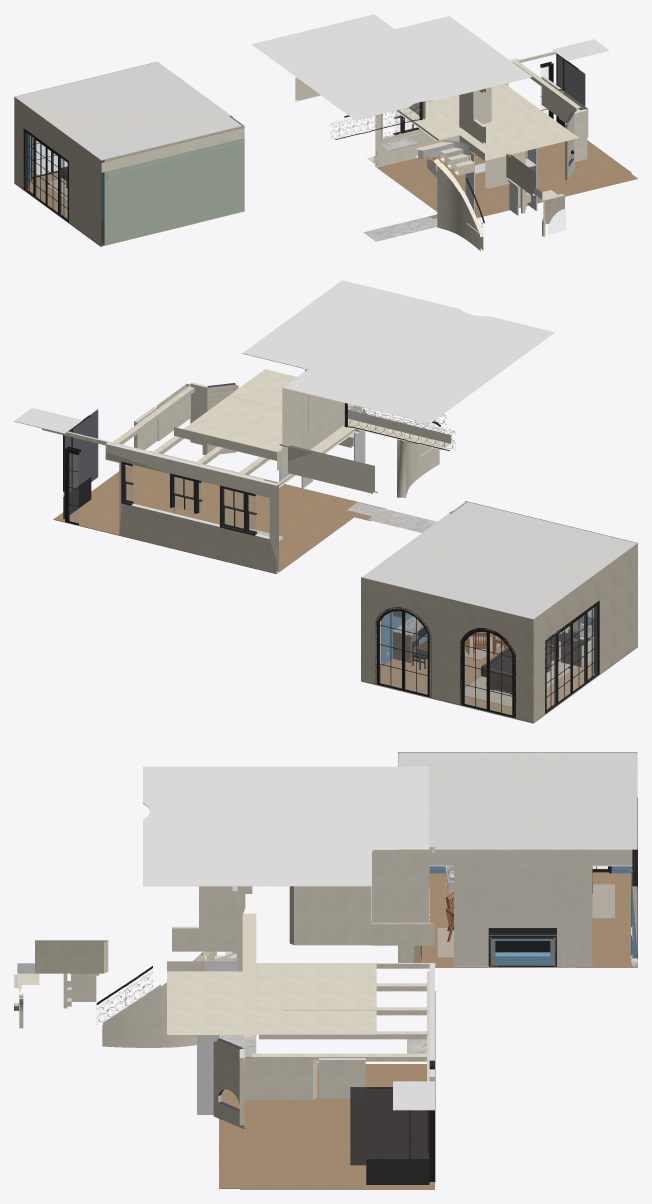
File: game-room-e32512383e2a.glb
The picture shows the model from 3 angles, top to bottom: view 1: azimuth 30°, elevation 25°; view 2: azimuth 150°, elevation 25°; view 3: azimuth 270°, elevation 25°; orthographic projection. The views are drawn at different scales.
Visible parts, largest first — view 1: game-room-look-9d91b47435c6fb33, game-room-4a969f5cc1ae3dfe, game-room-30c5953c9ad73e5d, game-room-look-3b0077416469e01b, game-room-look-2575515a05775d9e, game-room-039192b0560cfac3, game-room-50d54560d247b537, game-room-9fbf623a647a21dd, game-room-look-8c6a7019fd0063e7, game-room-2575515a05775d9e, game-room-look-bfb9fa537cd11d1d, game-room-3b0077416469e01b (+18 smaller); view 2: game-room-look-9d91b47435c6fb33, game-room-4a969f5cc1ae3dfe, game-room-look-3b0077416469e01b, game-room-969b861f9850351e, game-room-look-bfb9fa537cd11d1d, game-room-039192b0560cfac3, game-room-look-2575515a05775d9e, game-room-50d54560d247b537, game-room-67b6630d0fa028c8, game-room-b7bc8997c06ae95e, game-room-9fbf623a647a21dd, game-room-3b0077416469e01b (+18 smaller); view 3: game-room-look-9d91b47435c6fb33, game-room-4a969f5cc1ae3dfe, game-room-look-3b0077416469e01b, game-room-3e6709f91b43c3bf, game-room-look-2575515a05775d9e, game-room-50d54560d247b537, game-room-55ff1dfd7b659ec1, game-room-look-69af8f587252f9fa, game-room-look-cbd4bf73d9724a66, game-room-3b0077416469e01b, game-room-look-32b959c9aa406288, game-room-look-8c6a7019fd0063e7 (+21 smaller).
Part boxes in pixels (x1,y1,x2,y2): game-room-look-9d91b47435c6fb33: (251,14,531,120); game-room-4a969f5cc1ae3dfe: (14,62,242,160); game-room-30c5953c9ad73e5d: (104,126,244,245); game-room-look-3b0077416469e01b: (375,140,637,218); game-room-look-2575515a05775d9e: (367,84,578,163); game-room-039192b0560cfac3: (14,97,104,246); game-room-50d54560d247b537: (14,61,243,160); game-room-9fbf623a647a21dd: (23,128,68,222); game-room-look-8c6a7019fd0063e7: (427,157,483,250); game-room-2575515a05775d9e: (101,128,244,172); game-room-look-bfb9fa537cd11d1d: (375,58,518,167); game-room-3b0077416469e01b: (14,172,239,246); game-room-look-9d91b47435c6fb33: (242,280,554,423); game-room-4a969f5cc1ae3dfe: (361,502,637,619); game-room-look-3b0077416469e01b: (53,451,386,574); game-room-969b861f9850351e: (361,578,529,721); game-room-look-bfb9fa537cd11d1d: (105,442,278,573); game-room-039192b0560cfac3: (529,544,637,722); game-room-look-2575515a05775d9e: (174,369,451,460); game-room-50d54560d247b537: (361,502,637,619); game-room-67b6630d0fa028c8: (460,628,515,718); game-room-b7bc8997c06ae95e: (375,607,431,697); game-room-9fbf623a647a21dd: (545,600,599,713); game-room-3b0077416469e01b: (361,644,637,722); game-room-look-9d91b47435c6fb33: (143,766,429,886); game-room-4a969f5cc1ae3dfe: (398,752,637,849); game-room-look-3b0077416469e01b: (219,1056,434,1189); game-room-3e6709f91b43c3bf: (398,849,632,966); game-room-look-2575515a05775d9e: (167,913,376,1034); game-room-50d54560d247b537: (398,752,637,849); game-room-55ff1dfd7b659ec1: (398,849,631,967); game-room-look-69af8f587252f9fa: (289,886,371,945); game-room-look-cbd4bf73d9724a66: (350,1087,429,1165); game-room-3b0077416469e01b: (398,872,637,967); game-room-look-32b959c9aa406288: (372,849,429,922); game-room-look-8c6a7019fd0063e7: (102,951,216,1047).
Bounding box in the file's own units: 21.68 × 6.36 × 16.78.
Materials: 62 (17 with a texture image).
